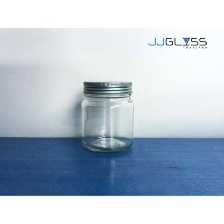bottle: (74, 75, 140, 156)
